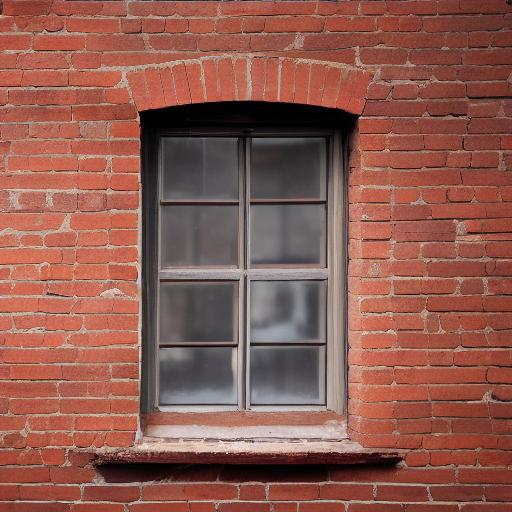Window: (91, 53, 405, 470)
